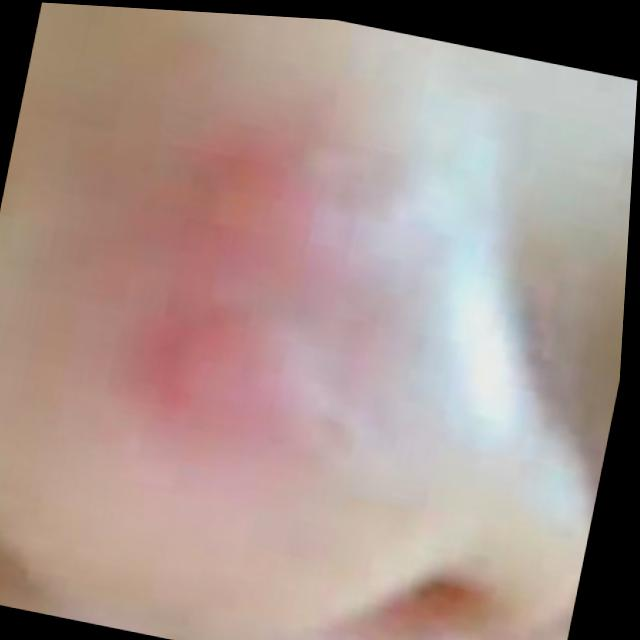nodule: (143, 261, 398, 468), (147, 134, 345, 278)
